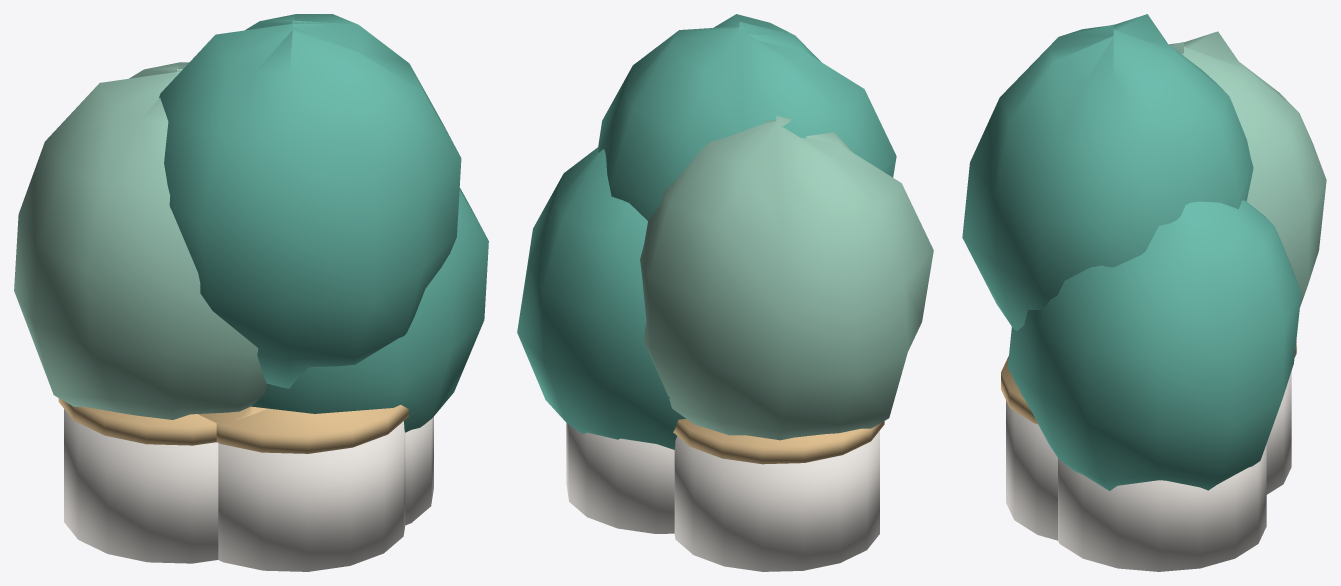
Rendered from bush_jade_topiary.glb.
3 renders of one model, left to right at view 1: azimuth 30°, elevation 25°; view 2: azimuth 150°, elevation 25°; view 3: azimuth 270°, elevation 25°, orthographic. The views are drawn at different scales.
Visible parts, largest first — view 1: BUSH_jade_topiary_leafmass_2, BUSH_jade_topiary_leafmass_1, BUSH_jade_topiary_planter_2, BUSH_jade_topiary_planter_1, BUSH_jade_topiary_leafmass_0, BUSH_jade_topiary_planter_rim_2, BUSH_jade_topiary_planter_rim_1, BUSH_jade_topiary_planter_0; view 2: BUSH_jade_topiary_leafmass_1, BUSH_jade_topiary_leafmass_0, BUSH_jade_topiary_leafmass_2, BUSH_jade_topiary_planter_1, BUSH_jade_topiary_planter_0, BUSH_jade_topiary_planter_rim_1; view 3: BUSH_jade_topiary_leafmass_0, BUSH_jade_topiary_leafmass_2, BUSH_jade_topiary_planter_0, BUSH_jade_topiary_leafmass_1, BUSH_jade_topiary_planter_2, BUSH_jade_topiary_planter_1, BUSH_jade_topiary_planter_rim_2.
Boxes of the visible parts, x1=… form: BUSH_jade_topiary_leafmass_2: x1=159, y1=14, x2=461, y2=388; BUSH_jade_topiary_leafmass_1: x1=14, y1=62, x2=266, y2=419; BUSH_jade_topiary_planter_2: x1=218, y1=421, x2=405, y2=571; BUSH_jade_topiary_planter_1: x1=64, y1=409, x2=218, y2=563; BUSH_jade_topiary_leafmass_0: x1=251, y1=187, x2=488, y2=432; BUSH_jade_topiary_planter_rim_2: x1=198, y1=405, x2=408, y2=453; BUSH_jade_topiary_planter_rim_1: x1=58, y1=398, x2=267, y2=445; BUSH_jade_topiary_planter_0: x1=405, y1=417, x2=433, y2=525; BUSH_jade_topiary_leafmass_1: x1=640, y1=115, x2=933, y2=440; BUSH_jade_topiary_leafmass_0: x1=517, y1=146, x2=685, y2=449; BUSH_jade_topiary_leafmass_2: x1=598, y1=14, x2=896, y2=220; BUSH_jade_topiary_planter_1: x1=674, y1=431, x2=879, y2=571; BUSH_jade_topiary_planter_0: x1=566, y1=423, x2=674, y2=533; BUSH_jade_topiary_planter_rim_1: x1=673, y1=419, x2=884, y2=464; BUSH_jade_topiary_leafmass_0: x1=1007, y1=200, x2=1301, y2=490; BUSH_jade_topiary_leafmass_2: x1=962, y1=14, x2=1253, y2=330; BUSH_jade_topiary_planter_0: x1=1058, y1=444, x2=1266, y2=571; BUSH_jade_topiary_leafmass_1: x1=1169, y1=31, x2=1326, y2=306; BUSH_jade_topiary_planter_2: x1=1006, y1=400, x2=1057, y2=540; BUSH_jade_topiary_planter_1: x1=1266, y1=371, x2=1291, y2=494; BUSH_jade_topiary_planter_rim_2: x1=1001, y1=356, x2=1038, y2=424.
Bounding box in the file's own units: 0.9411 × 1.08 × 0.7445.
